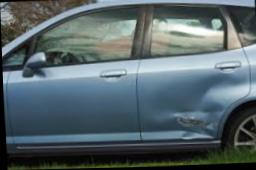Door: (156, 82, 246, 148)
